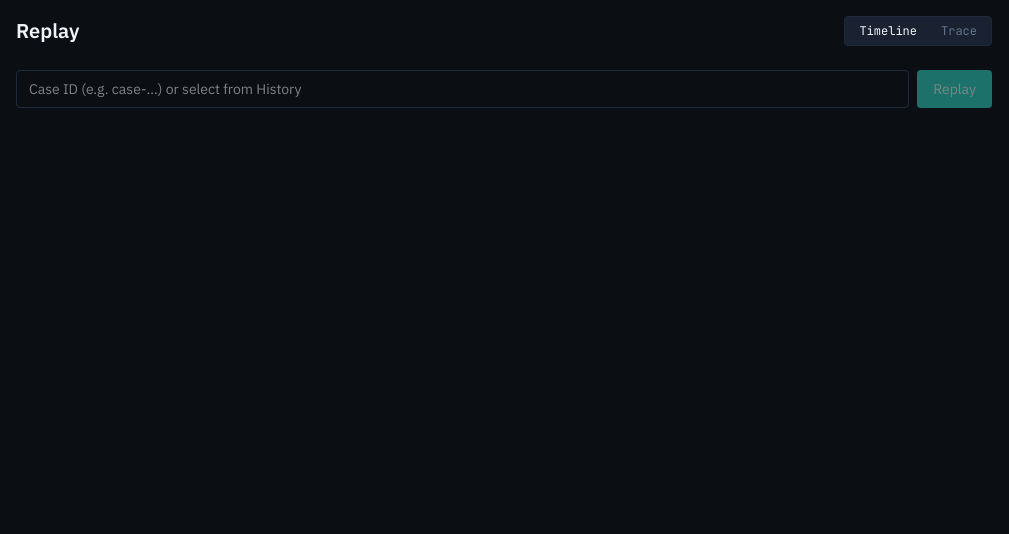
Test case: Replay page › loads and renders the trace lane view
Type "case-1" into the field with placeholder "Case ID (e.g. case-…) or select from History". click: (463, 89)
box: [16,70,909,108]
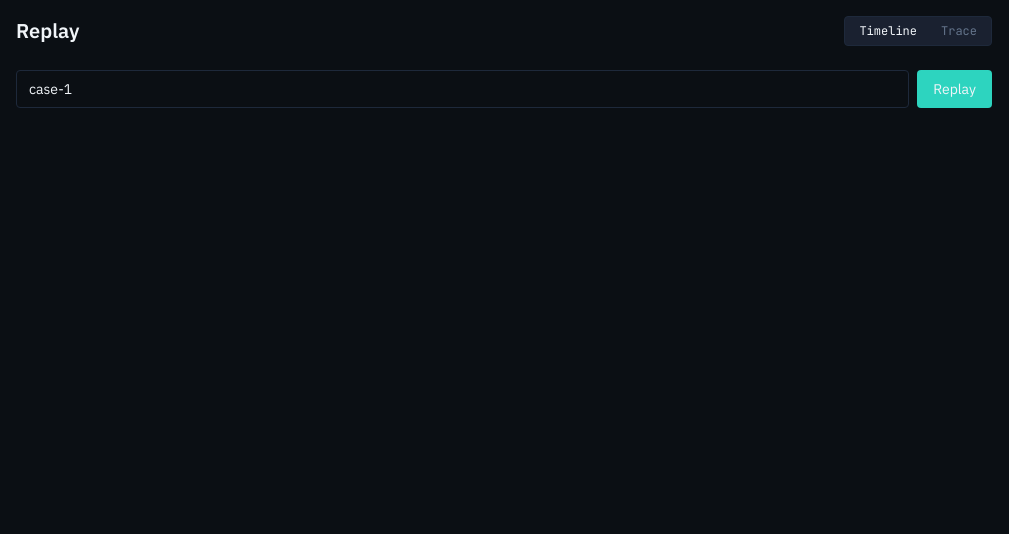
Click the button "Trace". click: (959, 31)
box: [929,19,989,43]
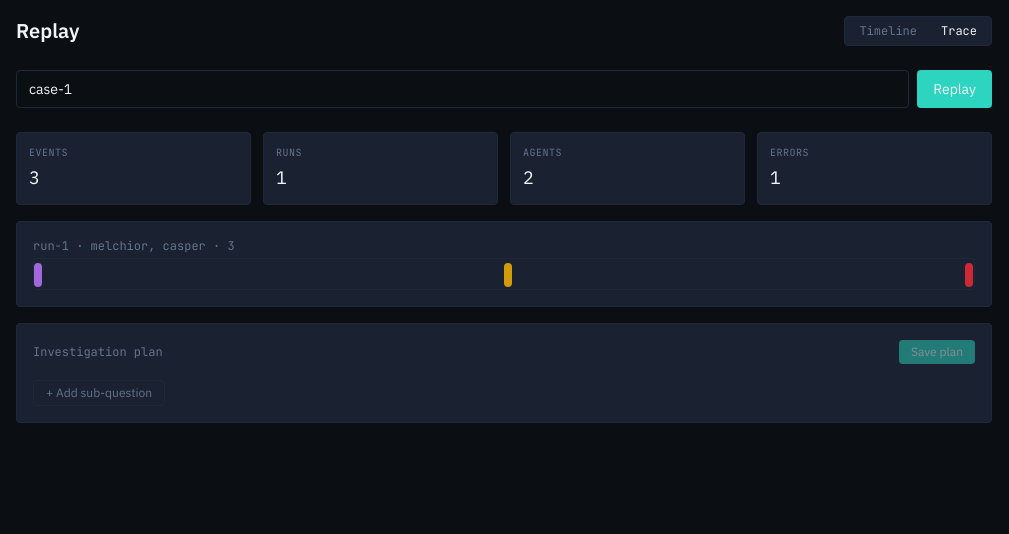
Expected: the text "run-1 · melchior, casper · 3" is shown, [33,238,235,254]
Expected: the text "Errors" is shown, [770,146,809,159]
Expected: the text "3" is shown, [29,166,40,189]
Click the button named "AGENT_STEP: Gather evidence". click: (38, 275)
box: [34,263,42,287]
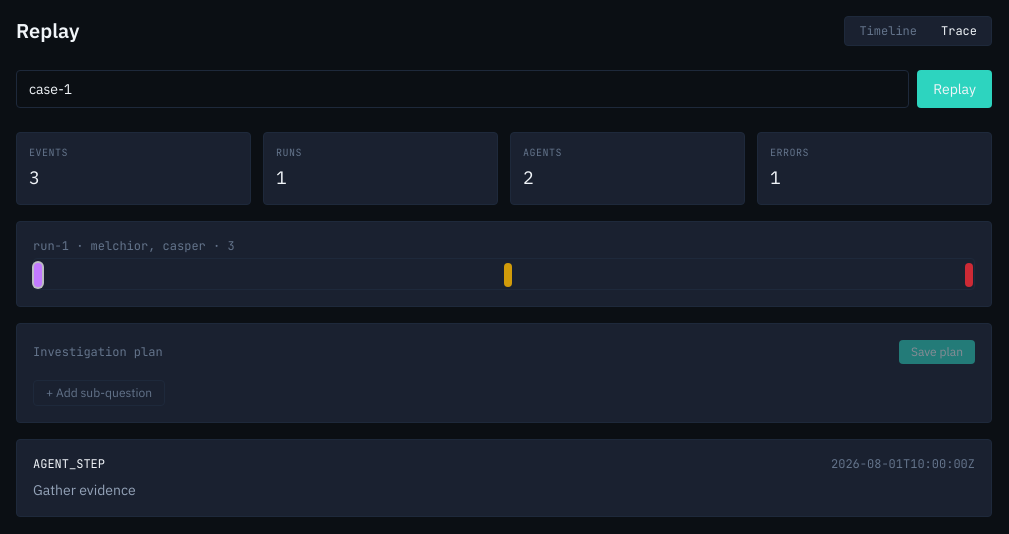
Expected: the text "Gather evidence" is shown, [33,481,136,499]
